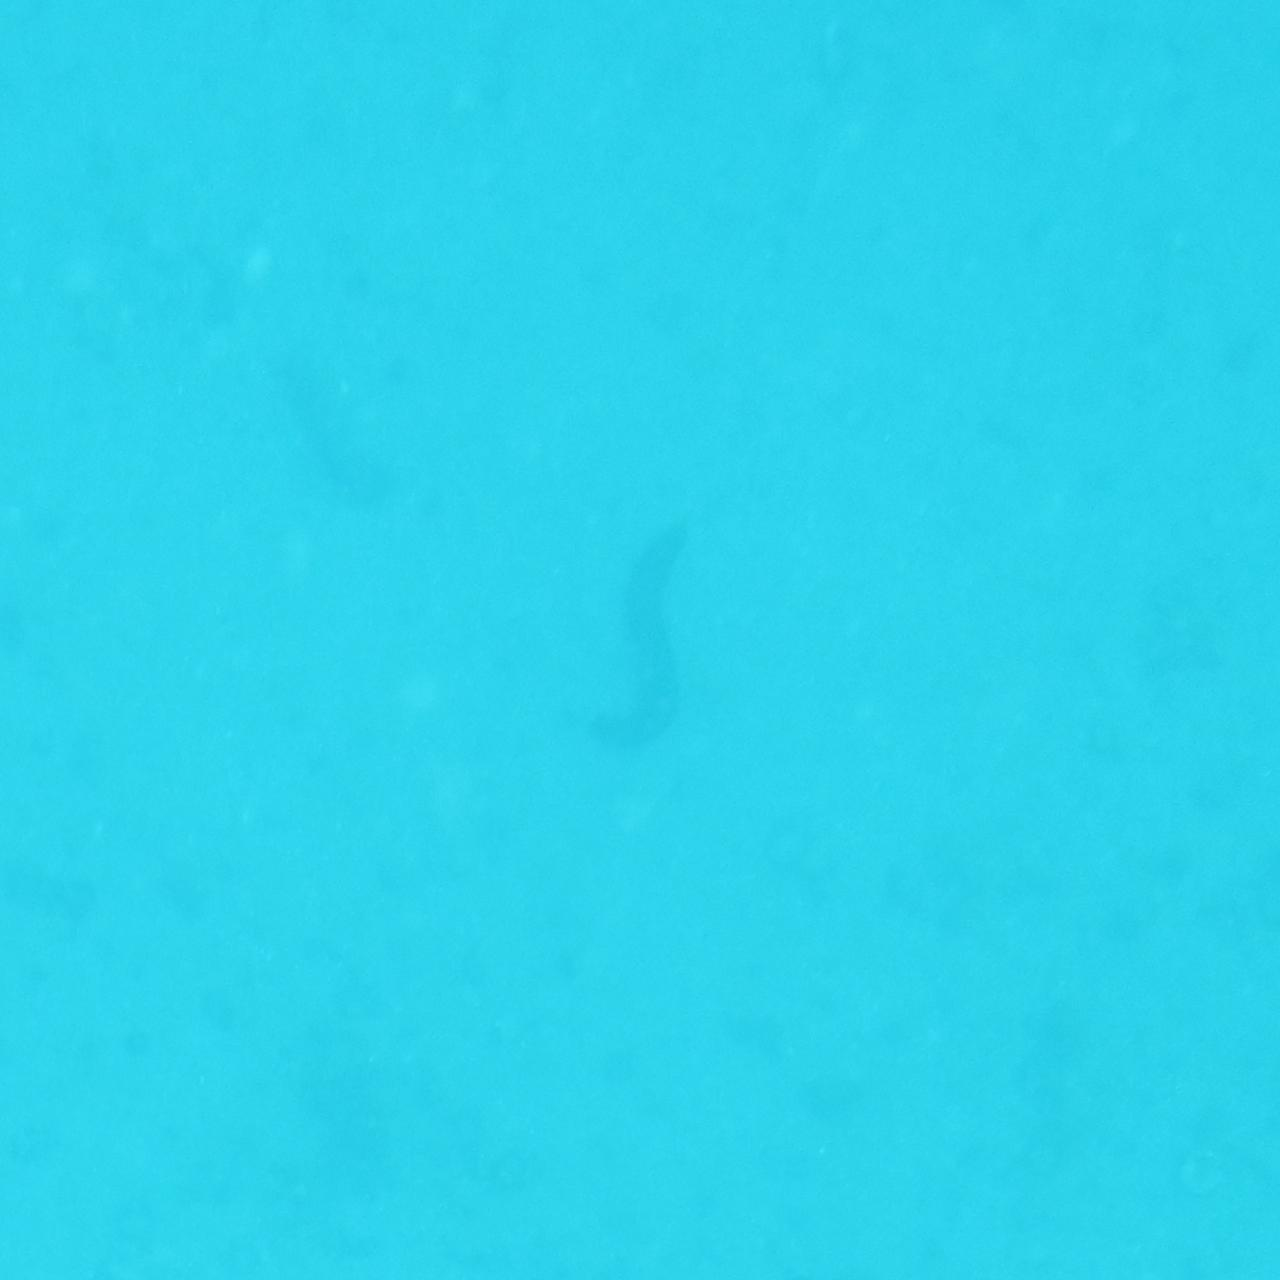Holothuria tubulosa: (584, 507, 696, 749)
